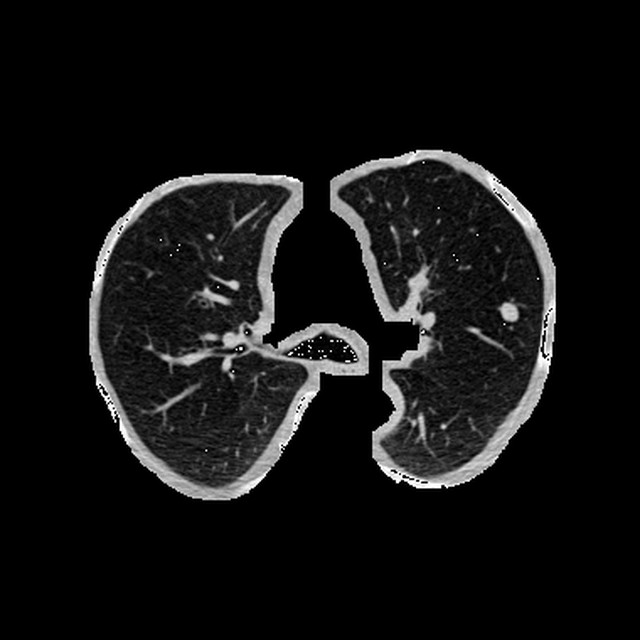PN: (499, 300, 519, 320)
